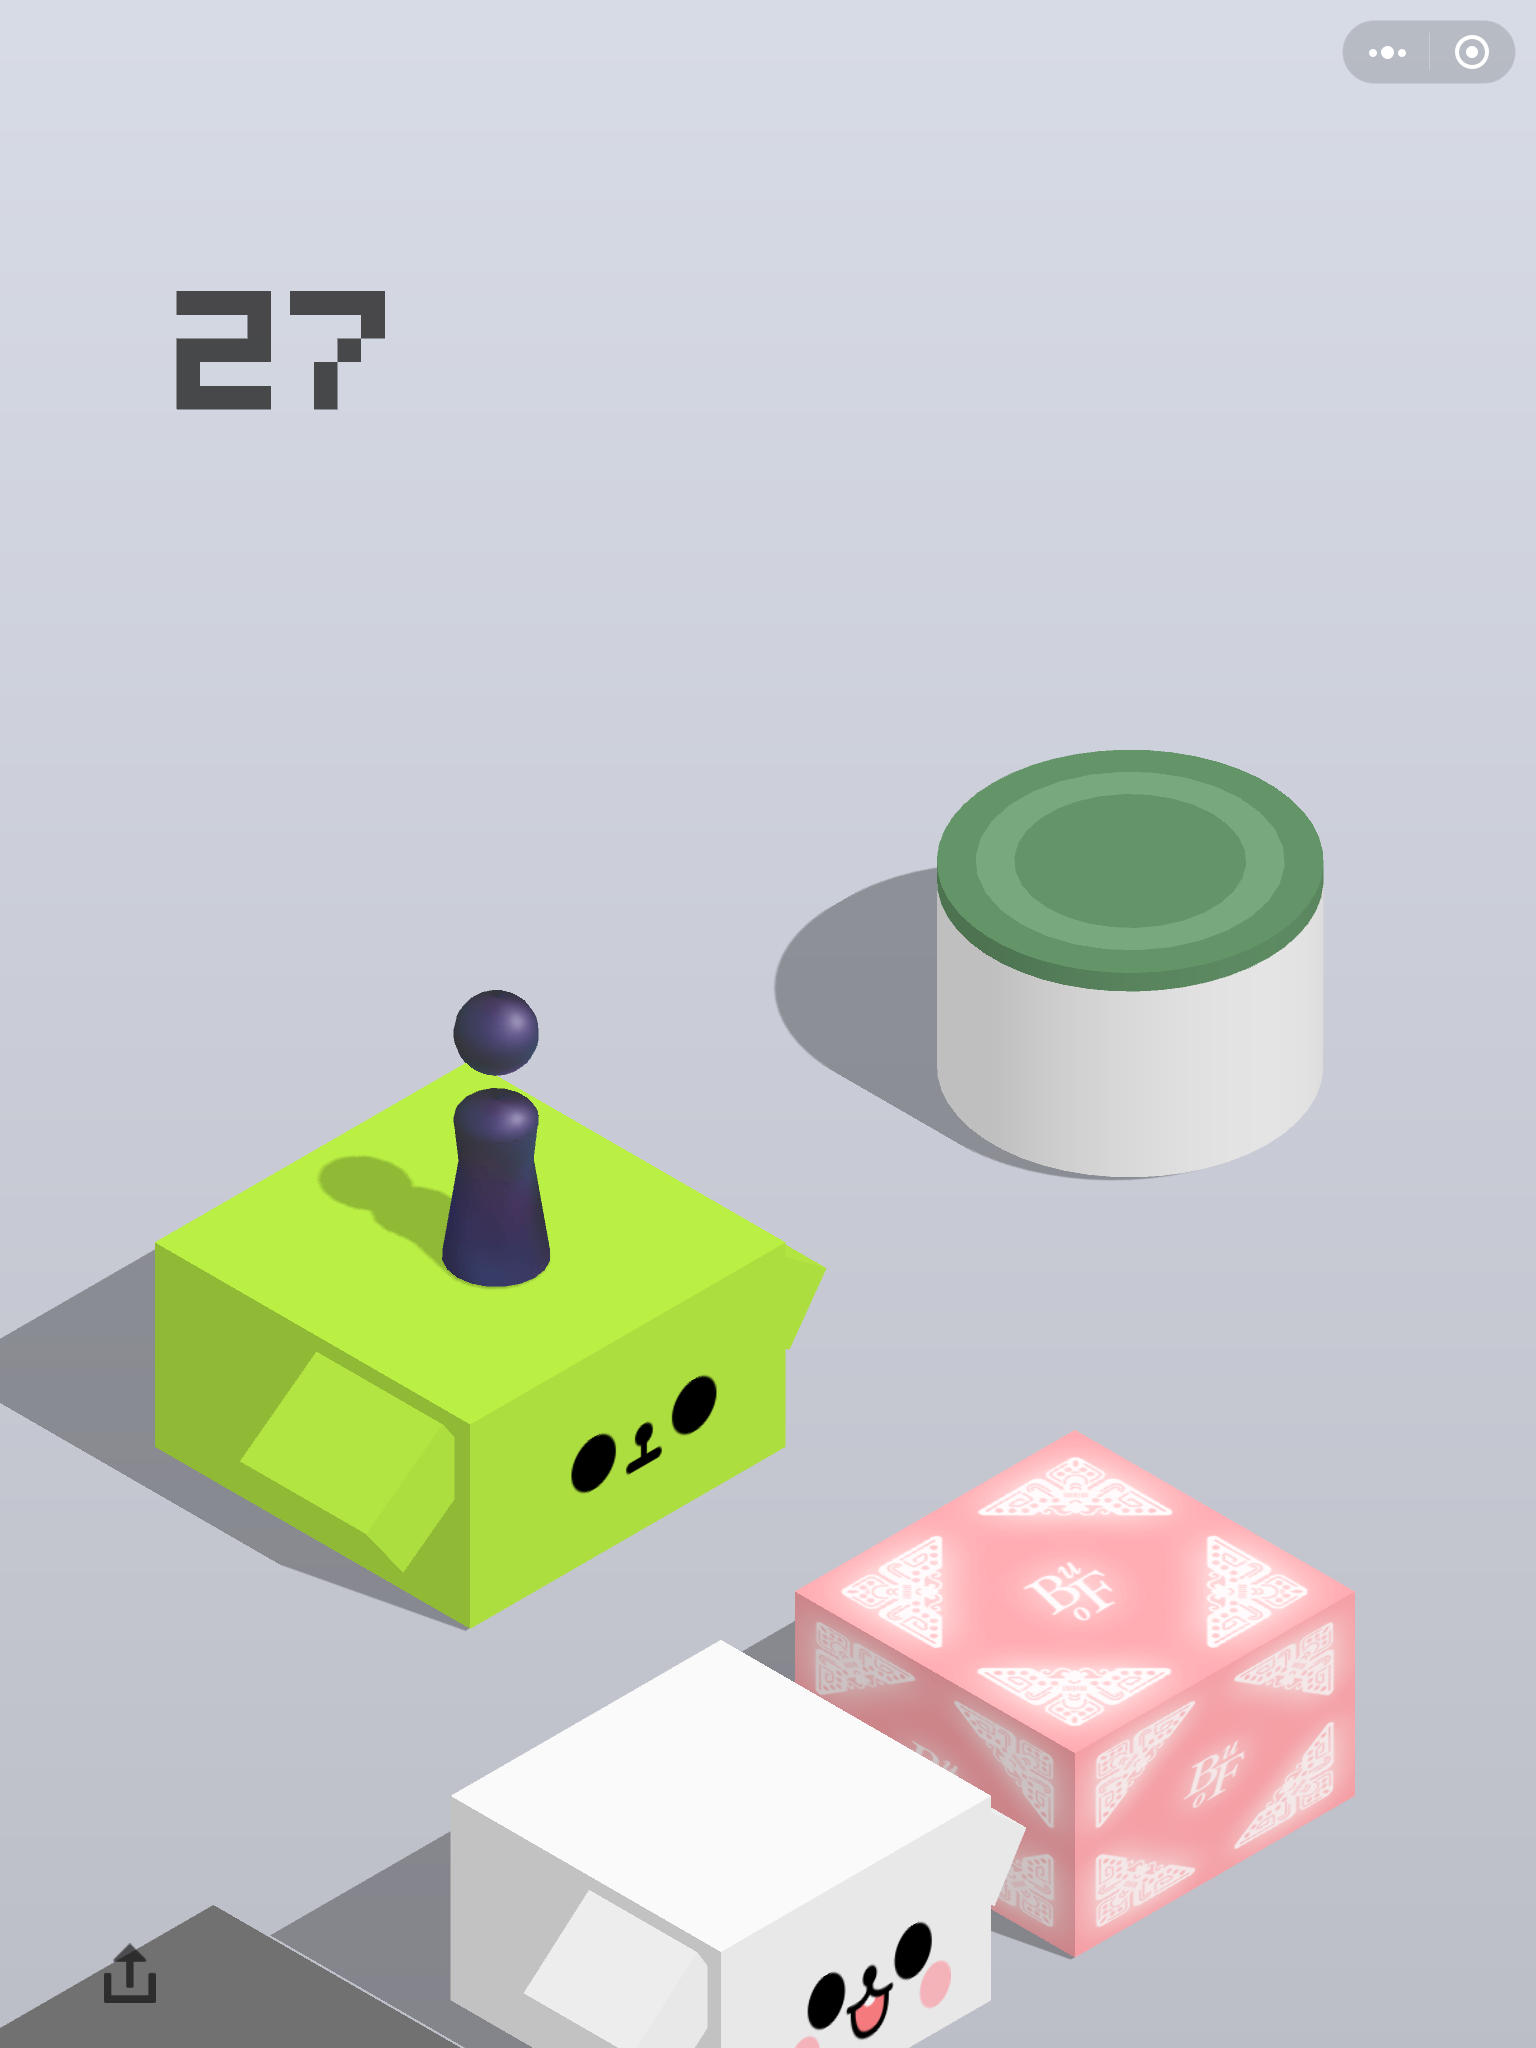c: (928, 742, 1329, 1184)
f: (148, 1059, 828, 1638), (786, 1422, 1363, 1963), (445, 1637, 1028, 2048), (2, 1904, 479, 2046)
r: (437, 984, 555, 1292)
